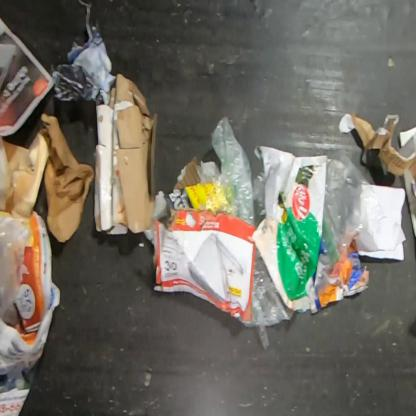cardboard: (151, 208, 256, 324), (92, 72, 157, 235), (337, 112, 415, 185), (164, 156, 222, 210)
soft_plastic: (246, 144, 328, 313), (194, 116, 265, 229), (321, 146, 387, 266), (244, 247, 295, 351), (0, 212, 36, 326)
